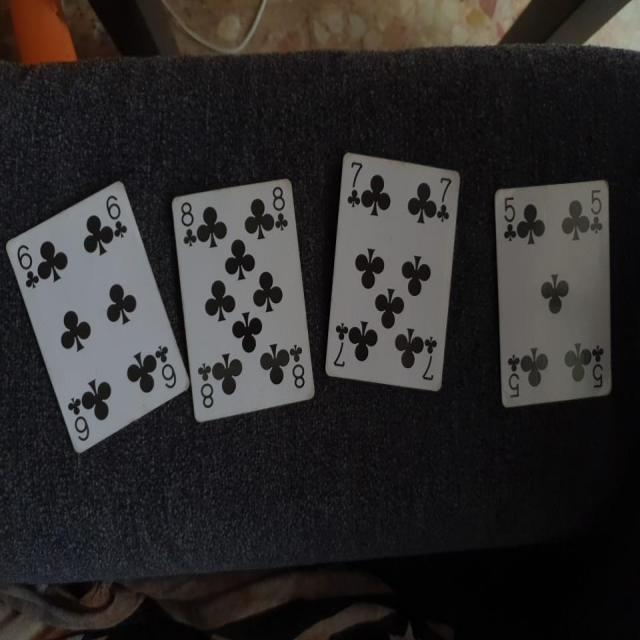5 Trefoils: (495, 179, 615, 409)
6 Trefoils: (4, 180, 189, 457)
7 Trefoils: (324, 149, 462, 394)
8 Trefoils: (169, 178, 316, 422)
